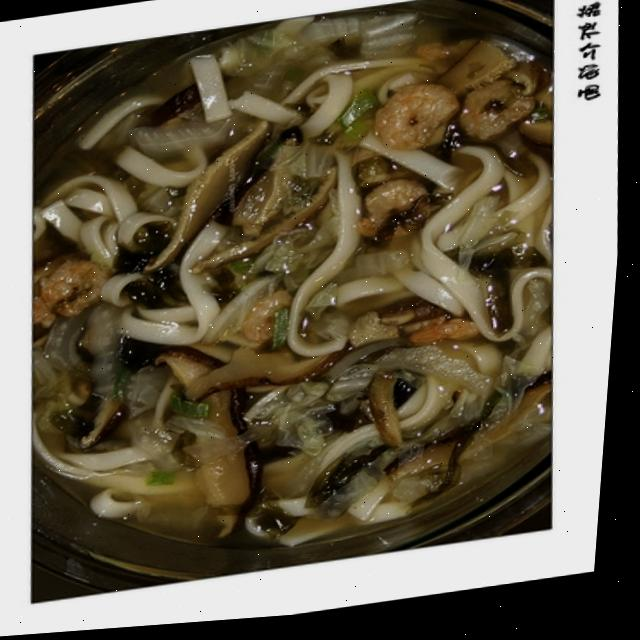面条主食: (5, 0, 584, 598)
